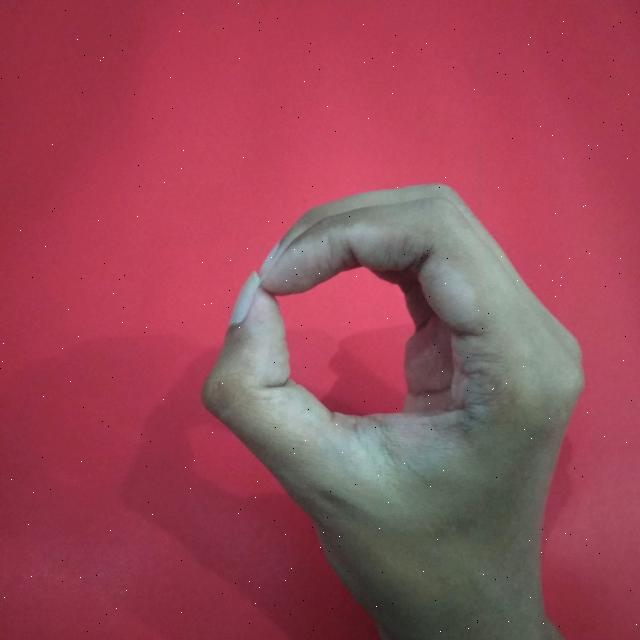O: (194, 173, 590, 640)
